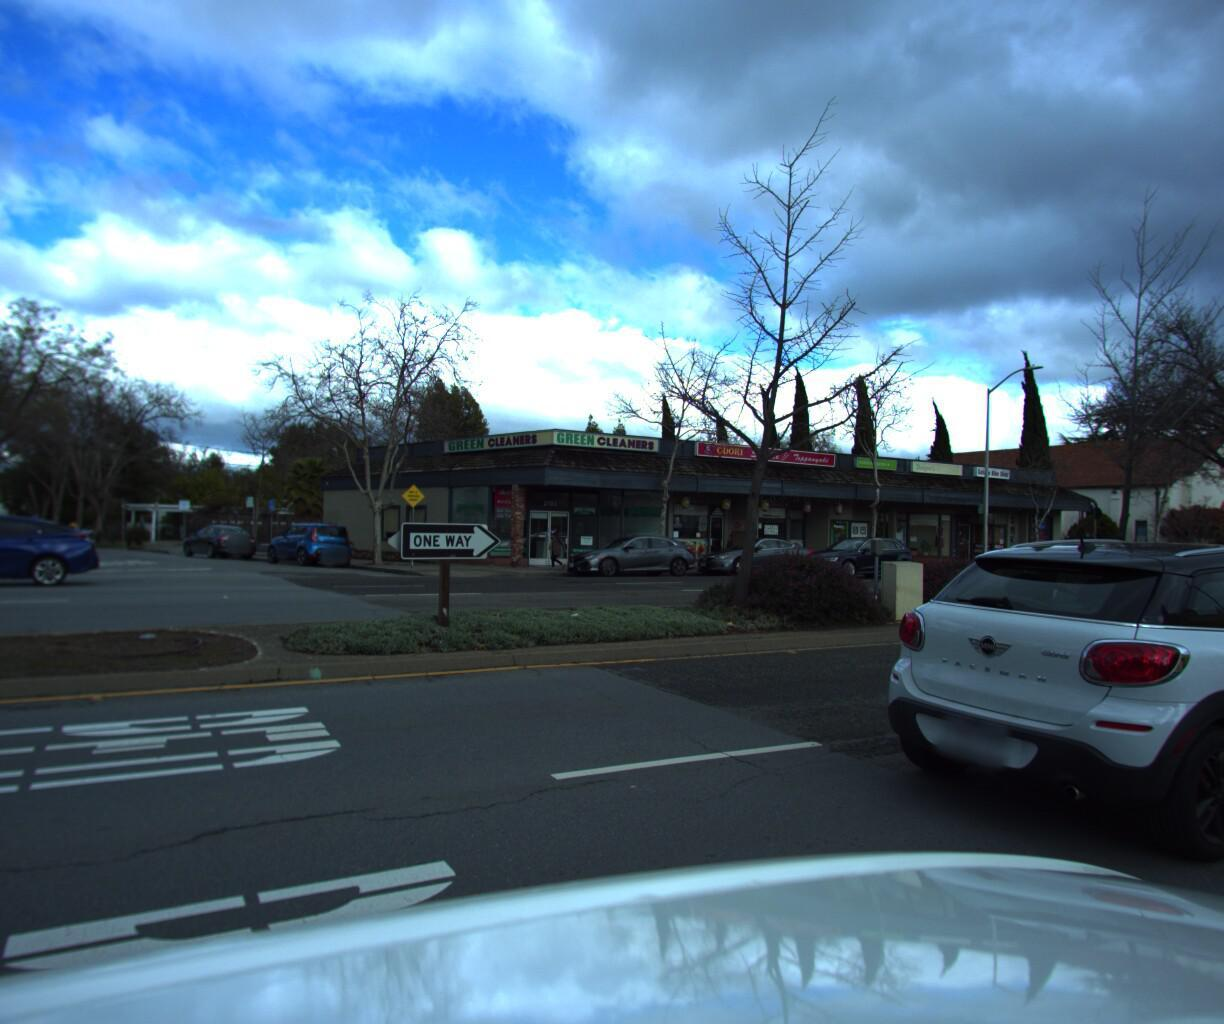bicycle: (1017, 544, 1049, 564)
car: (845, 518, 1224, 908), (0, 513, 95, 594), (556, 528, 705, 579), (684, 531, 825, 577), (795, 527, 922, 574), (259, 518, 360, 567), (179, 519, 262, 558)
